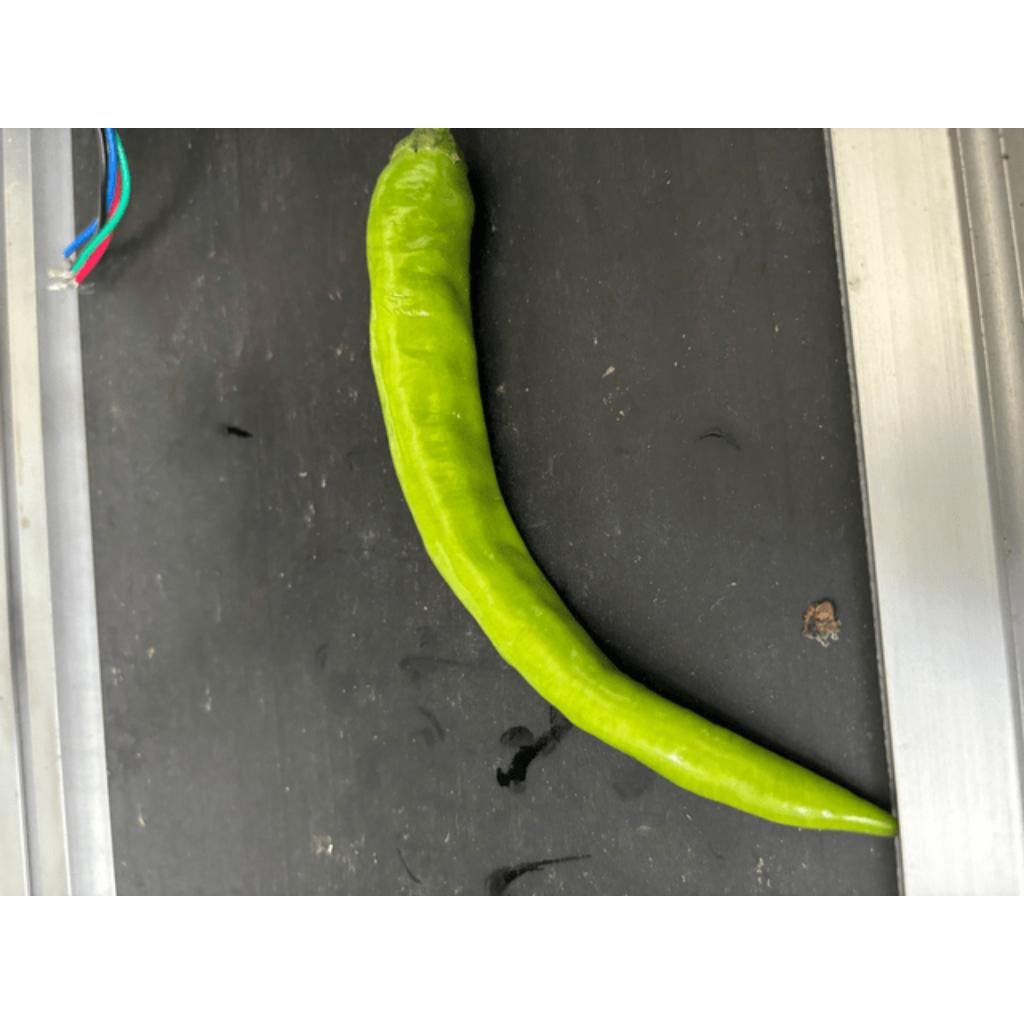chili: (362, 132, 900, 842)
